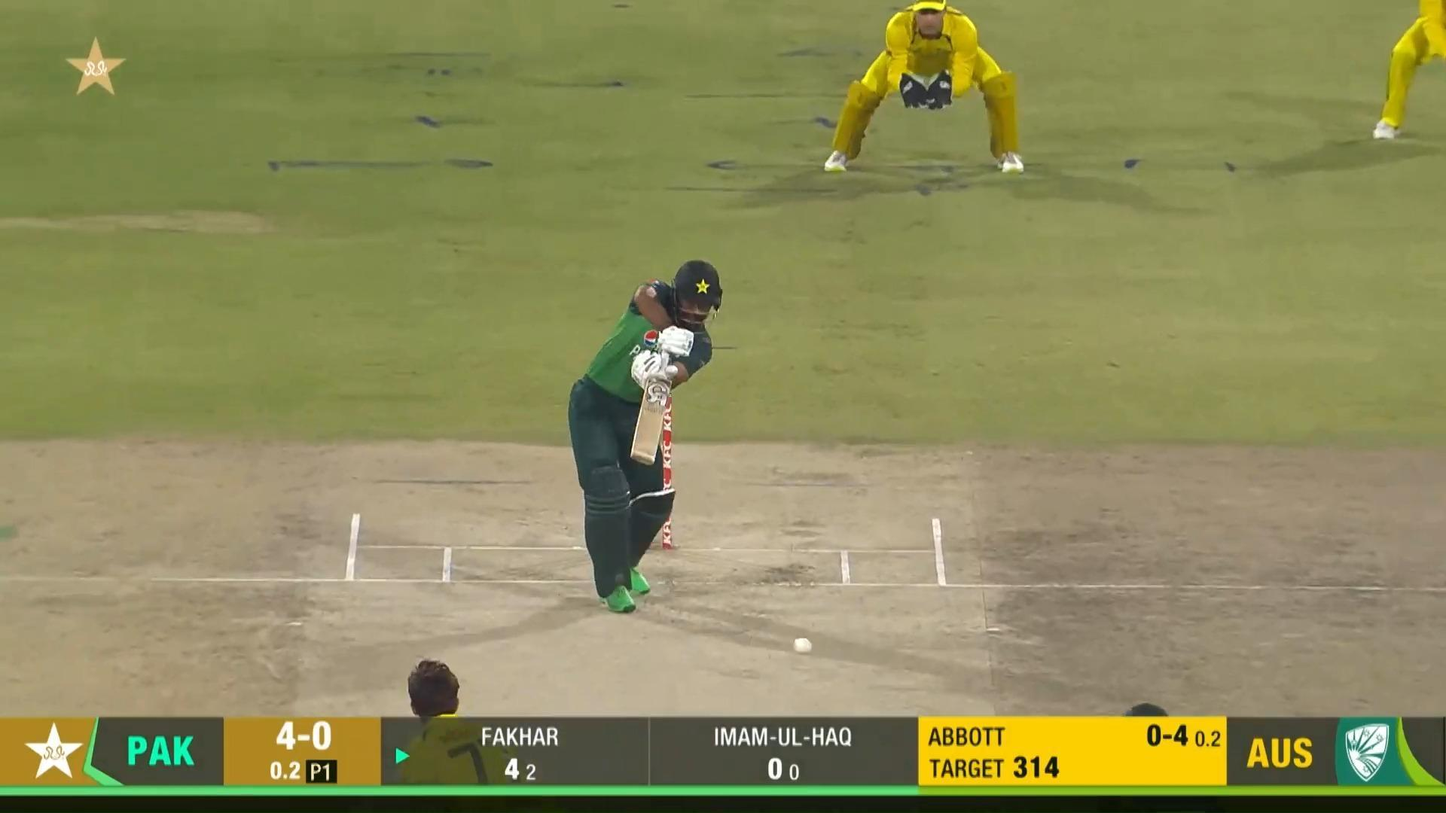BM 1: (565, 259, 724, 617)
BO: (389, 656, 529, 788)
